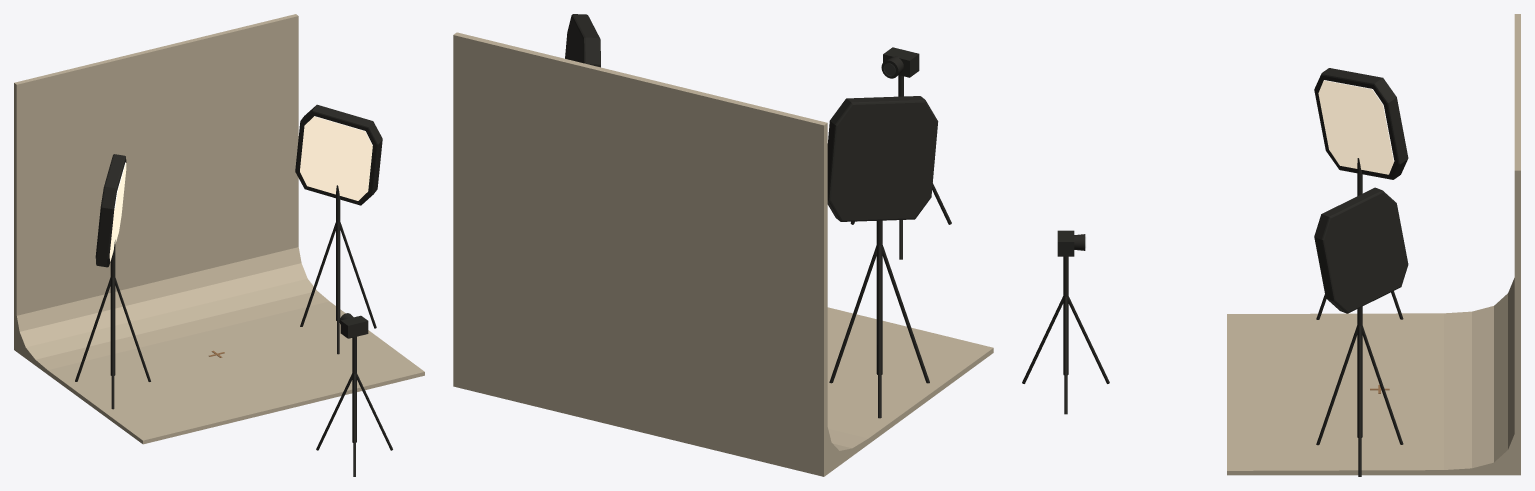
File: mf_room_ootd.glb
3 views of the same model, side by side, from view 1: azimuth 30°, elevation 25°; view 2: azimuth 150°, elevation 25°; view 3: azimuth 270°, elevation 25° (orthographic). The views are drawn at different scales.
Visible parts, largest first — view 1: mf_room_ootd; view 2: mf_room_ootd; view 3: mf_room_ootd.
Boxes of the visible parts, x1,y1,x2,y2 form: mf_room_ootd: [14, 14, 424, 476]; mf_room_ootd: [453, 14, 993, 476]; mf_room_ootd: [1022, 14, 1520, 476].
Bounding box in the file's own units: 3.29 × 2.88 × 4.28.
